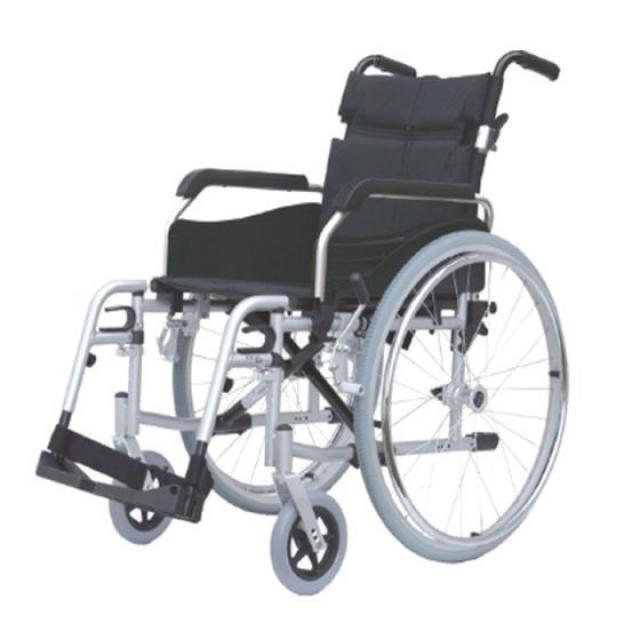wheelchair: (23, 32, 588, 603)
